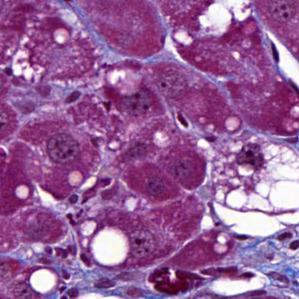ballooning: (207, 134, 296, 242)
